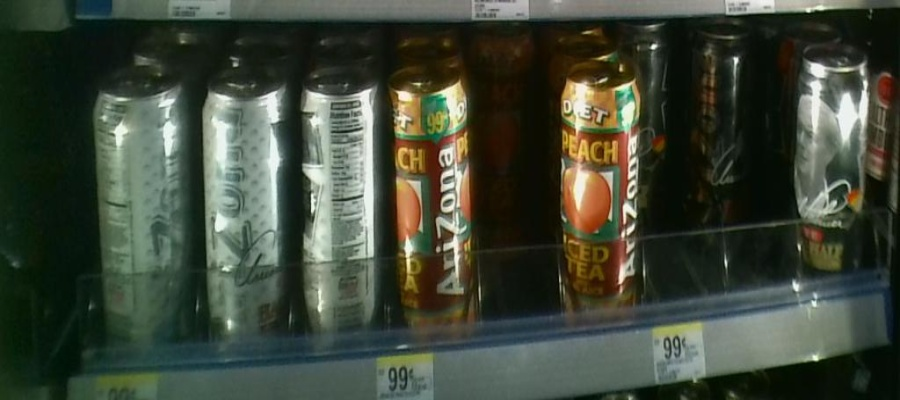bottle: (90, 74, 194, 350), (384, 42, 476, 348), (198, 55, 294, 347), (294, 45, 382, 342), (554, 65, 640, 320), (795, 42, 867, 270), (693, 32, 744, 193)
